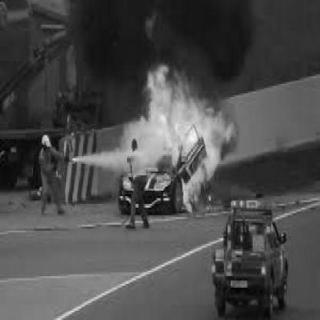Fire: (133, 58, 240, 212)
Smoke: (81, 4, 243, 74)
other: (205, 185, 288, 307), (1, 26, 67, 102), (28, 126, 64, 216)
